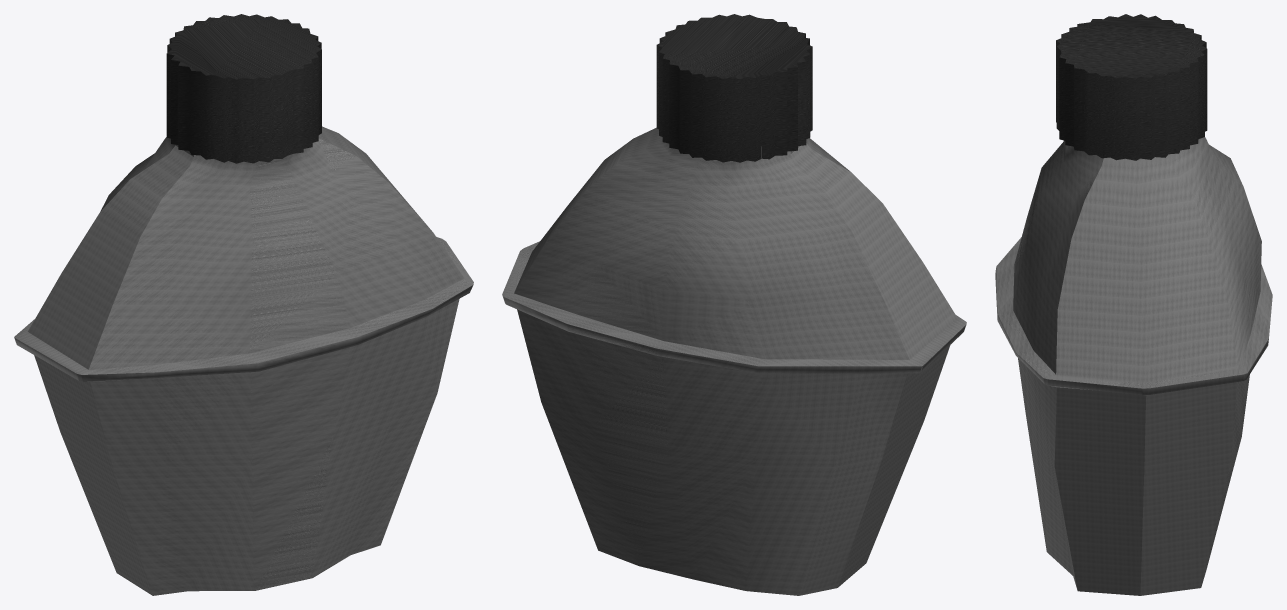
Rendered from _paginuman.FBX.
3 views of the same model, side by side, from view 1: azimuth 30°, elevation 25°; view 2: azimuth 150°, elevation 25°; view 3: azimuth 270°, elevation 25° (orthographic). The views are drawn at different scales.
Visible parts, largest first — view 1: w; view 2: w; view 3: w.
Part boxes in pixels (x1=…): w: x1=14, y1=14, x2=473, y2=595; w: x1=502, y1=14, x2=966, y2=595; w: x1=995, y1=14, x2=1272, y2=595.
Size of the model in its own units: 17.9 by 20.92 by 10.58.
